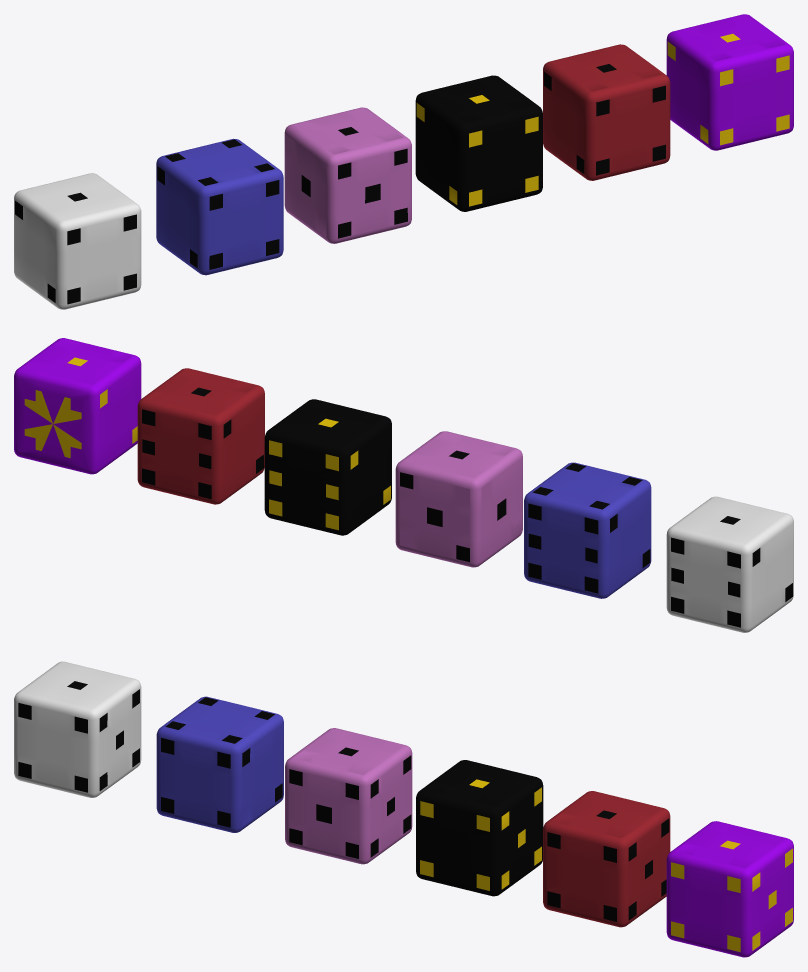
File: Dice_ver22.fbx
3 views of the same model, one above another, from view 1: azimuth 30°, elevation 25°; view 2: azimuth 150°, elevation 25°; view 3: azimuth 330°, elevation 25° (orthographic).
Visible parts, largest first — view 1: normal, Even, Odd, Blood, Fraud, Joker; view 2: Blood, Even, Odd, normal, Fraud, Joker; view 3: Joker, normal, Even, Odd, Fraud, Blood.
Boxes of the visible parts, x1,y1,x2,y2 form: normal: (14, 173, 141, 309); Even: (156, 138, 283, 275); Odd: (284, 107, 411, 243); Blood: (543, 44, 670, 180); Fraud: (415, 75, 542, 211); Joker: (666, 14, 793, 150); Blood: (137, 368, 264, 504); Even: (524, 462, 651, 598); Odd: (395, 431, 522, 567); normal: (666, 496, 793, 632); Fraud: (264, 399, 391, 535); Joker: (14, 338, 141, 474); Joker: (666, 821, 793, 957); normal: (14, 661, 141, 797); Even: (156, 696, 283, 832); Odd: (285, 728, 412, 864); Fraud: (416, 760, 543, 896); Blood: (543, 791, 670, 927).
Bounding box in the file's own units: 1740 × 201 × 201.
